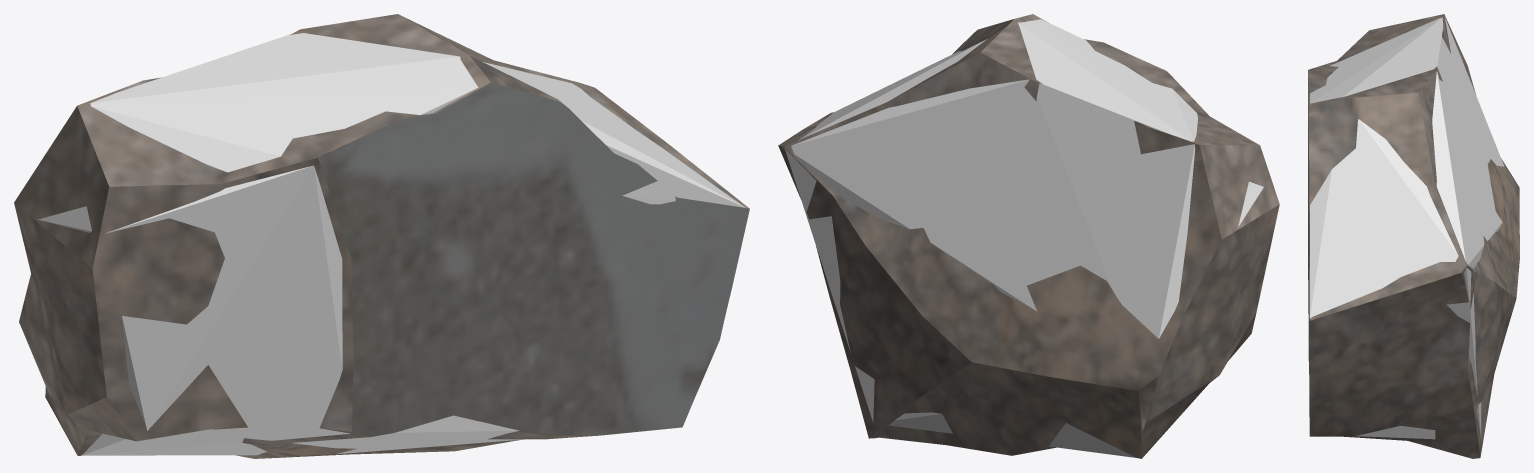
File: SM_Rock_10.fbx
3 views of the same model, side by side, from view 1: azimuth 30°, elevation 25°; view 2: azimuth 150°, elevation 25°; view 3: azimuth 270°, elevation 25° (orthographic). The views are drawn at different scales.
Visible parts, largest first — view 1: SM_Rock_10_LOD0, SM_Rock_10_ConvexHulls; view 2: SM_Rock_10_LOD0, SM_Rock_10_ConvexHulls; view 3: SM_Rock_10_LOD0, SM_Rock_10_ConvexHulls.
Boxes of the visible parts, x1,y1,x2,y2 form: SM_Rock_10_LOD0: [14, 14, 749, 458]; SM_Rock_10_ConvexHulls: [38, 33, 745, 455]; SM_Rock_10_LOD0: [778, 14, 1279, 458]; SM_Rock_10_ConvexHulls: [784, 19, 1263, 457]; SM_Rock_10_LOD0: [1308, 14, 1519, 458]; SM_Rock_10_ConvexHulls: [1309, 17, 1504, 439].
Size of the model in its own units: 53.97 by 23.46 by 40.78.
